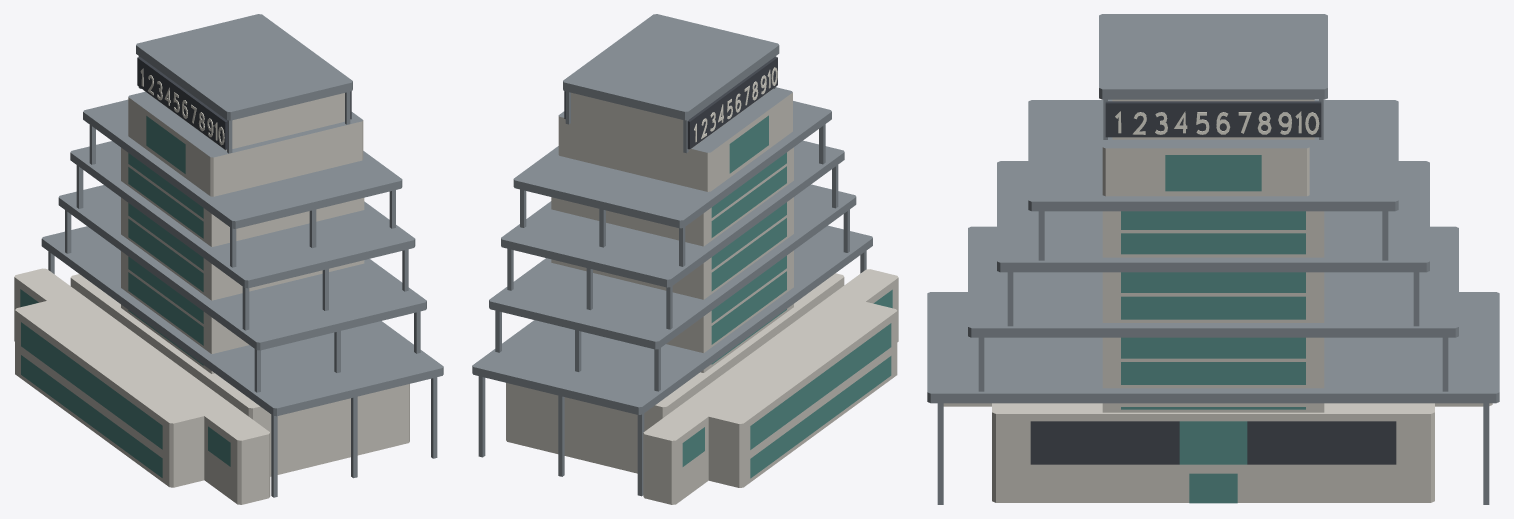
File: indy-ims-pagoda.glb
3 views of the same model, side by side, from view 1: azimuth 30°, elevation 25°; view 2: azimuth 150°, elevation 25°; view 3: azimuth 270°, elevation 25° (orthographic). The views are drawn at different scales.
Visible parts, largest first — view 1: The Pagoda, Indianapolis Motor Speedway; view 2: The Pagoda, Indianapolis Motor Speedway; view 3: The Pagoda, Indianapolis Motor Speedway.
Part boxes in pixels (box(x1,y1,x2,y2)): The Pagoda, Indianapolis Motor Speedway: box(14, 14, 443, 504); The Pagoda, Indianapolis Motor Speedway: box(472, 14, 898, 504); The Pagoda, Indianapolis Motor Speedway: box(927, 14, 1499, 504).
Bounding box in the file's own units: 34.46 × 46.5 × 59.5.
